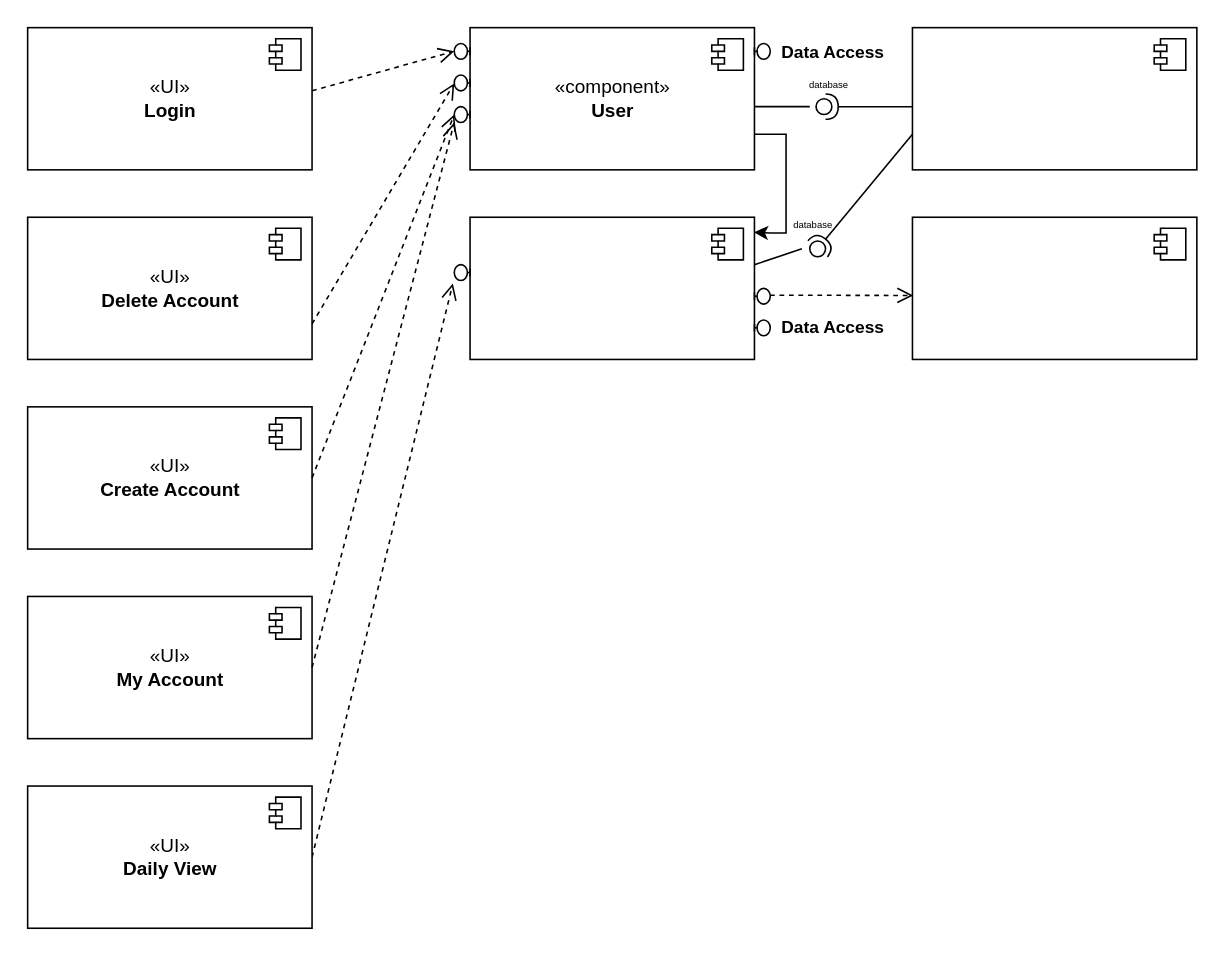
The diagram is 1225 pixels wide and 956 high, and some of its shapes have lost their labels. The centre of each missing label's shape, as x and y in pixels:
«component» Date: point 1054,287
«component» Eventos: point 611,287
«database» DataBase: point 1054,98
